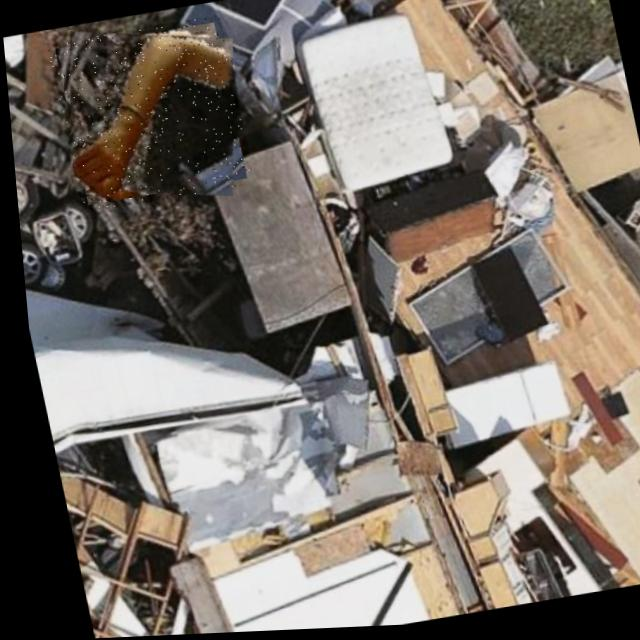Person in Rubble: (43, 15, 252, 214)
